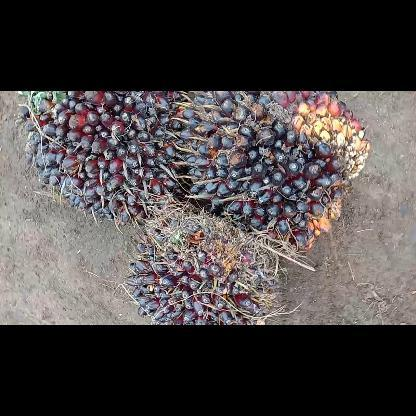TBS mentah: (174, 91, 374, 257), (14, 90, 196, 226), (127, 202, 284, 324)
